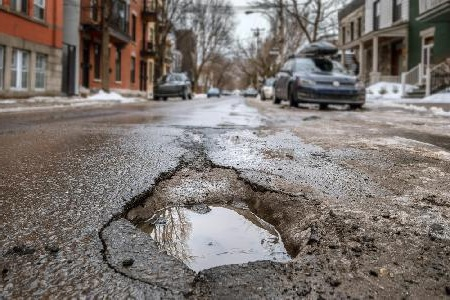pothole: (118, 159, 307, 273), (398, 128, 449, 153)
